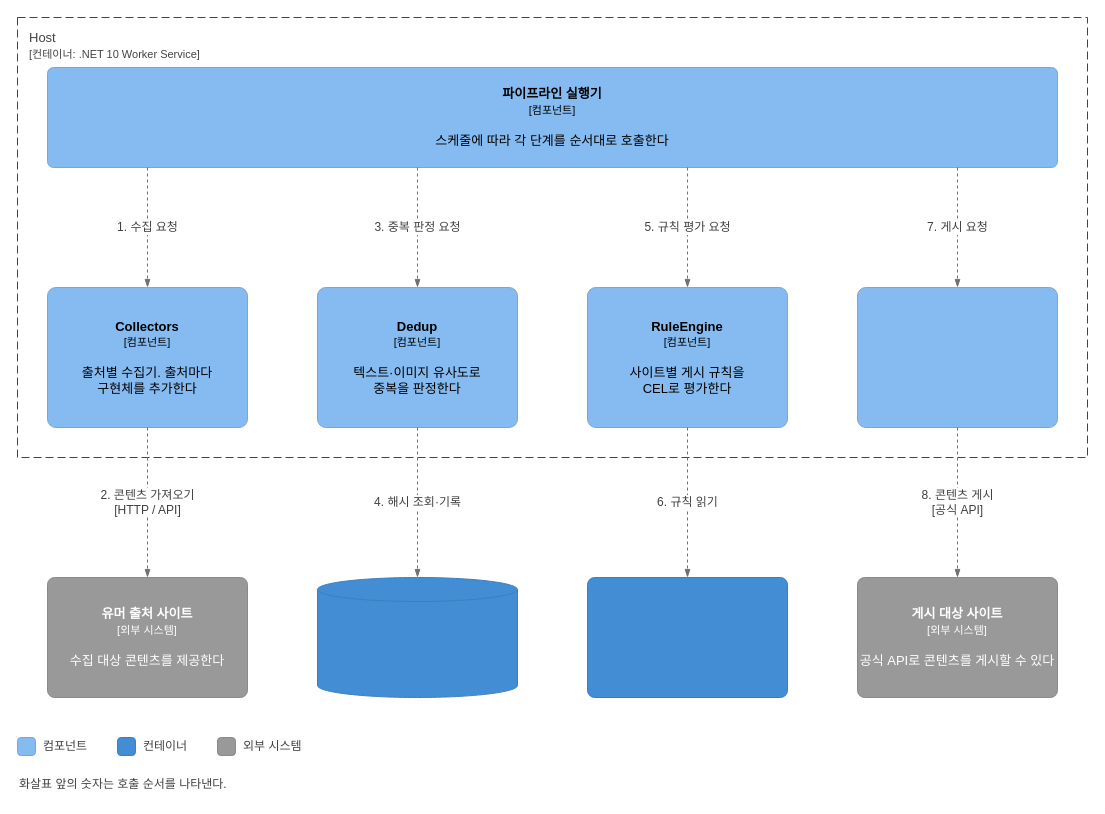
This 1105x814 diagram has some shape labels left out. The shapes that lost their labels are listed below. From the top down, each one's centre as x and y in pixels, then its label:
pixel 957 357: Publishers [컴포넌트] 사이트별 게시 모듈. 게시 대상마다 구현체를 추가한다
pixel 417 637: 데이터 저장소 [데이터베이스: 선정 예정] 콘텐츠·해시·게시 기록
pixel 687 637: 규칙·설정 파일 [파일] 사이트별 게시 규칙(CEL)
